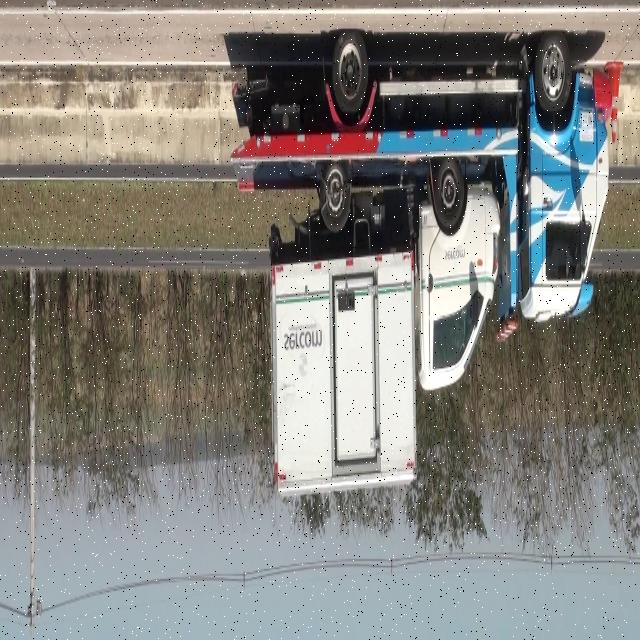-axle: (338, 29, 368, 115), (540, 37, 570, 111)
